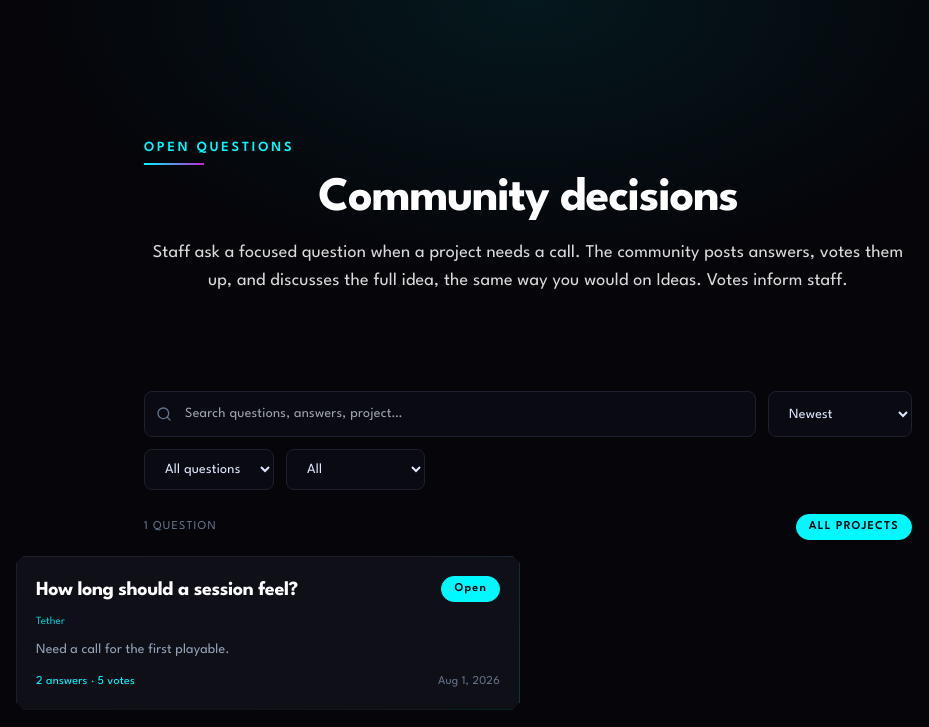
Scenario: Open Questions pages › filters the list by search text
The image size is (929, 727).
expect the heading "How long should a session feel?" is shown: met, box [36, 576, 298, 604]
In the search field named "search open questions": (450, 414) [144, 391, 756, 437], type "warp"
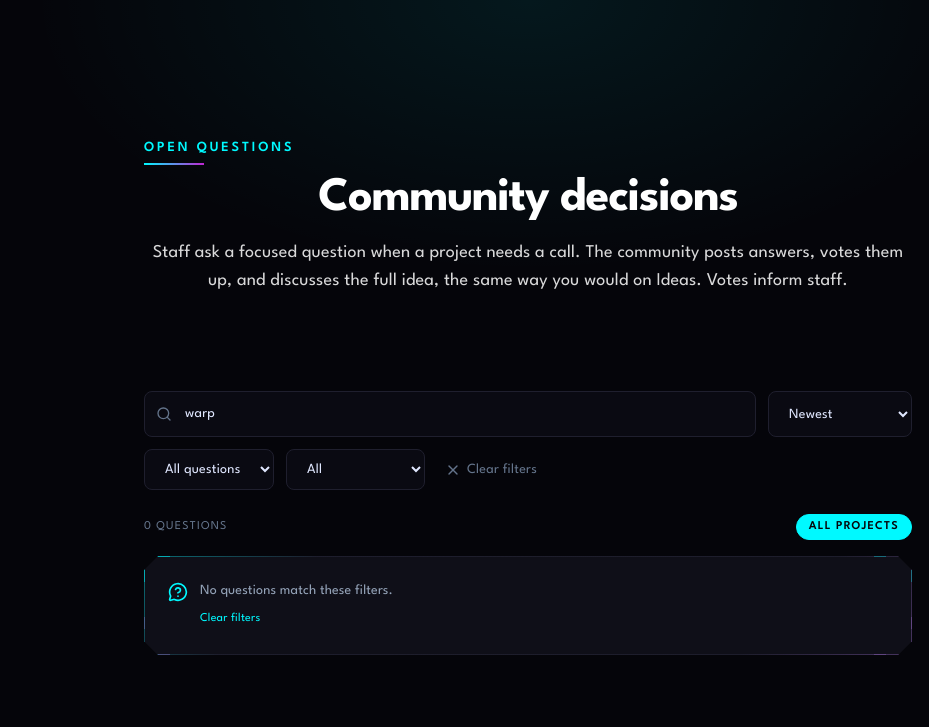
expect the link "How long should a session feel" is gone: met
expect the text "No questions match these filters." is shown: met, box [200, 584, 393, 597]
